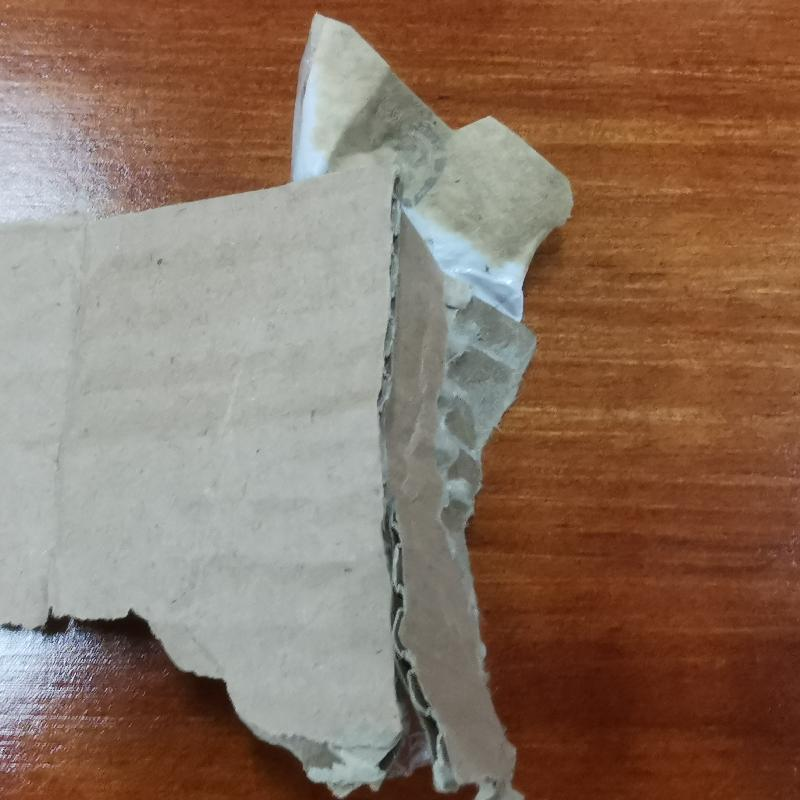boxes: (2, 13, 575, 800)
